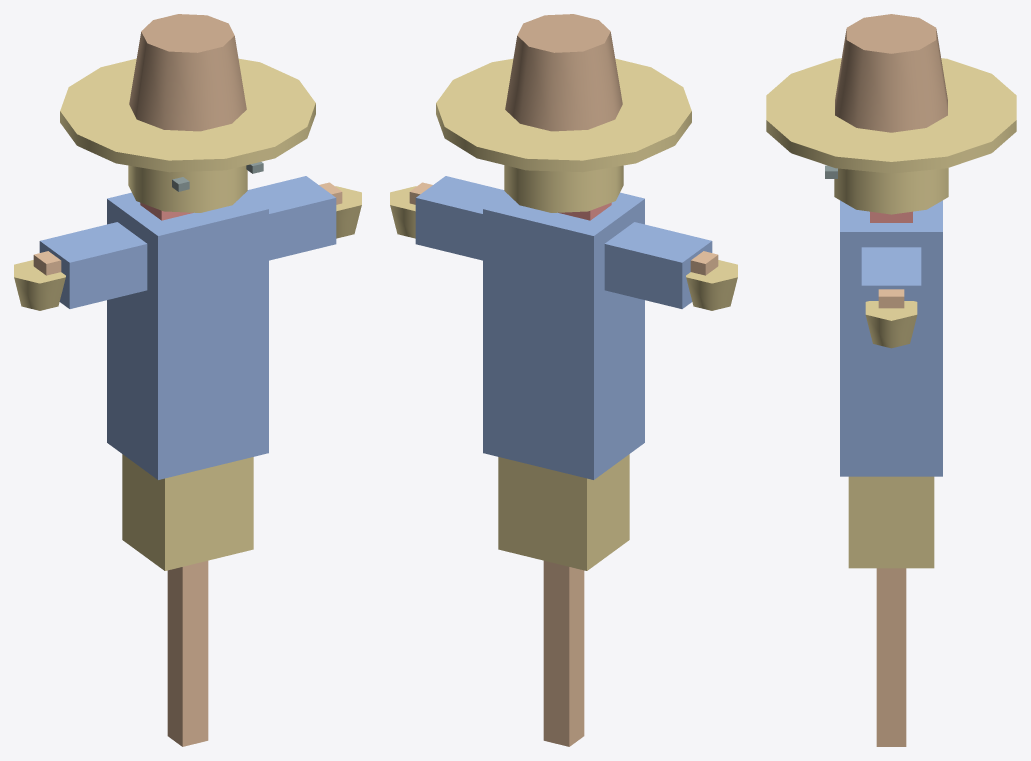
Rendered from gardenScarecrow.glb.
3 renders of one model, left to right at view 1: azimuth 30°, elevation 25°; view 2: azimuth 150°, elevation 25°; view 3: azimuth 270°, elevation 25°, orthographic.
Parts seen in each view (by area): view 1: gardenScarecrow; view 2: gardenScarecrow; view 3: gardenScarecrow.
Part boxes in pixels (x1=…): gardenScarecrow: x1=14, y1=14, x2=361, y2=746; gardenScarecrow: x1=390, y1=14, x2=737, y2=746; gardenScarecrow: x1=766, y1=14, x2=1016, y2=746.
Bounding box in the file's own units: 0.47 × 0.91 × 0.2925.
